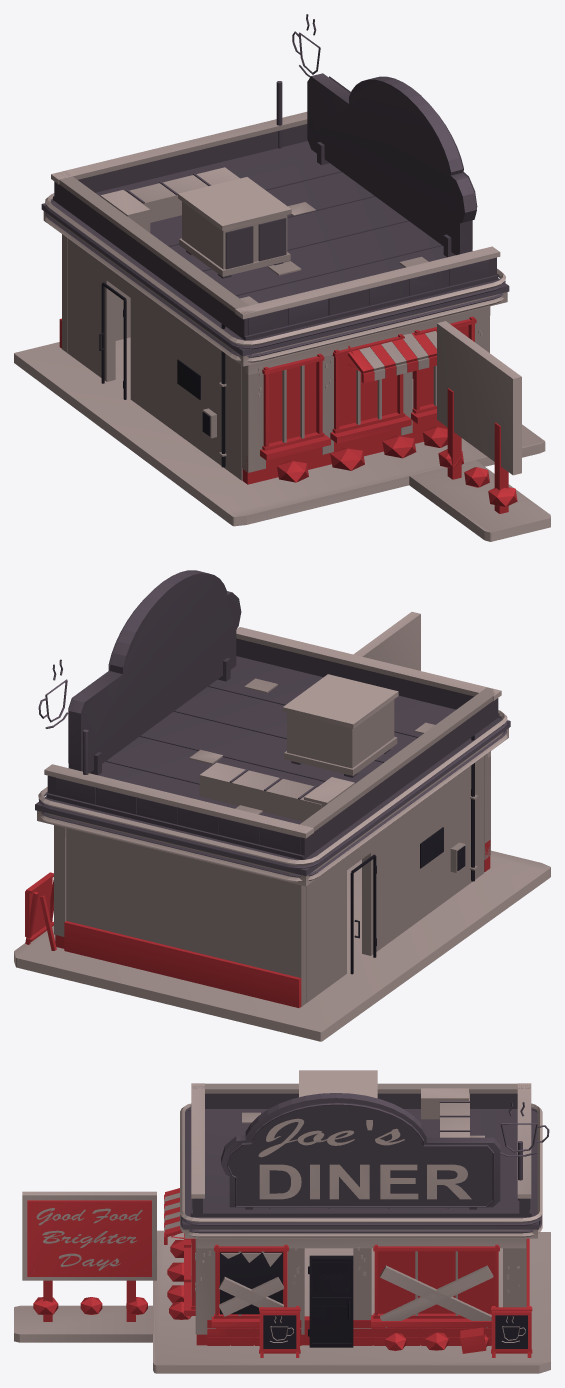
File: bld.joes-diner.w2.lod1.glb
3 renders of one model, top to bottom at view 1: azimuth 30°, elevation 25°; view 2: azimuth 150°, elevation 25°; view 3: azimuth 270°, elevation 25°, orthographic. The views are drawn at different scales.
Visible parts, largest first — view 1: roof, object 4, door_service; view 2: roof, object 4, door_service; view 3: object 4, roof, door_front.
Part boxes in pixels (x1,y1,x2,y2): roof: (41, 14, 509, 366); object 4: (14, 234, 550, 541); door_service: (99, 282, 126, 399); roof: (35, 570, 510, 886); object 4: (14, 612, 550, 1041); door_service: (350, 854, 376, 974); object 4: (14, 1188, 550, 1373); roof: (180, 1070, 549, 1238); door_front: (308, 1255, 353, 1347).
Bounding box in the file's own units: 6.97 × 6.32 × 11.74.
